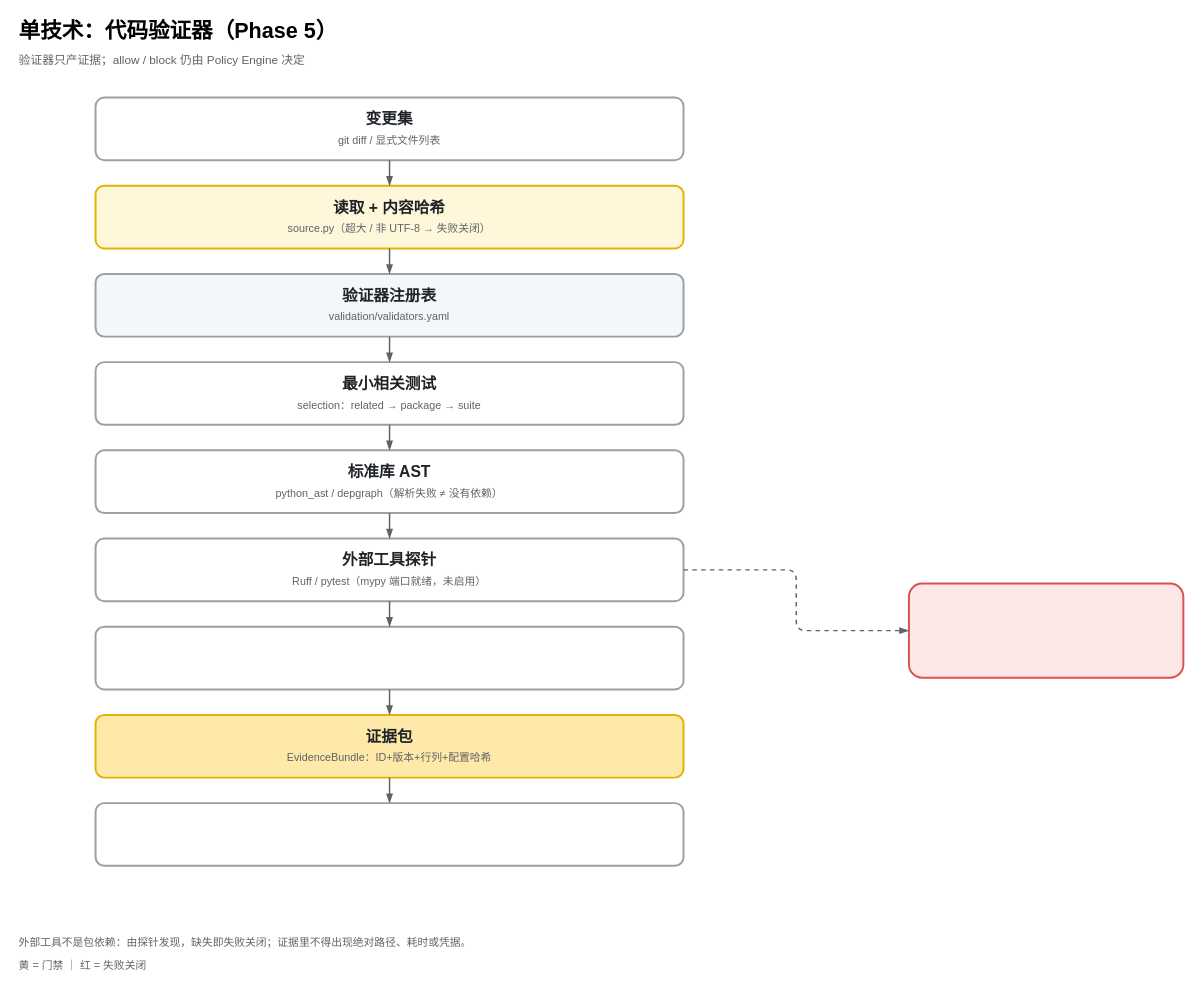
Some shapes in this 1201 by 992 pixel diagram are drawn without their labels. The box of each missing label's shape, as (x1, y1, x2, y2) in pixels:
交回判定核心 验证器只产证据，不判 allow / block: (94, 802, 684, 866)
按模板调用 allowlist / 白名单 env / 超时杀进程树 / 输出脱敏: (94, 625, 684, 690)
没证据就阻断 工具缺失 / 版本不符 / 超时 / 未覆盖 → critical: (907, 582, 1184, 678)
